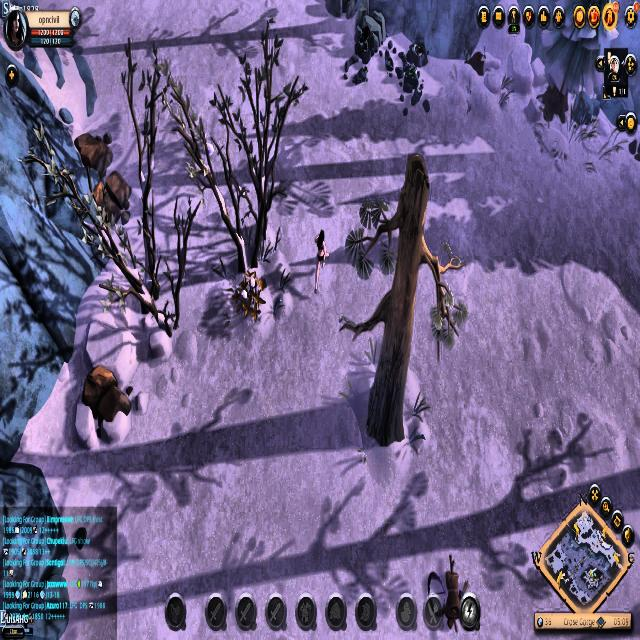cotton: (230, 266, 268, 322)
limestone: (78, 362, 132, 451), (71, 129, 112, 181), (93, 168, 130, 224)
tin_ore: (351, 24, 376, 67)
